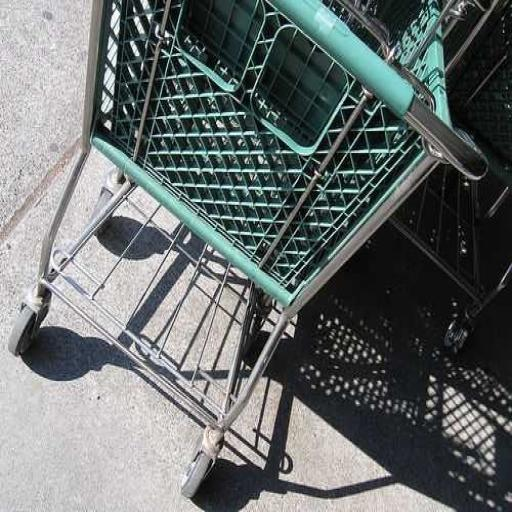shopping_cart: (0, 1, 490, 512)
